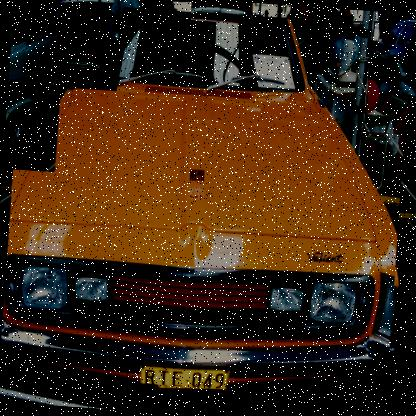Car: (0, 0, 414, 402), (24, 0, 126, 93), (2, 30, 66, 174), (364, 14, 415, 139), (189, 0, 263, 28)
